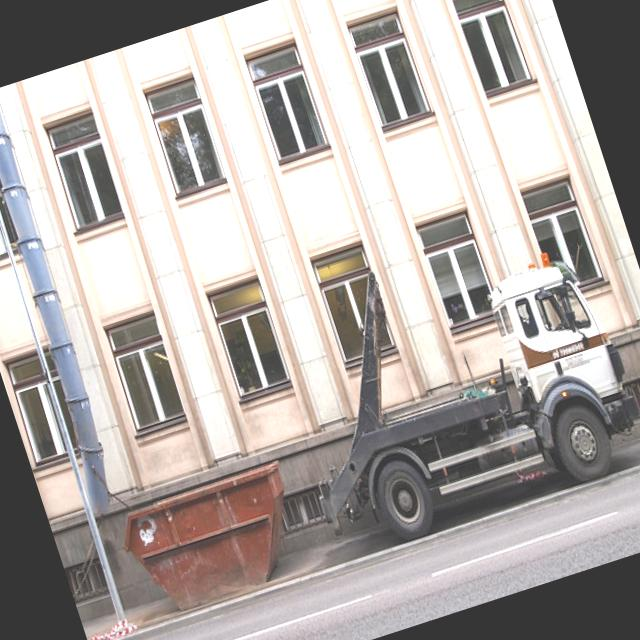Vehicle: (263, 210, 640, 560)
